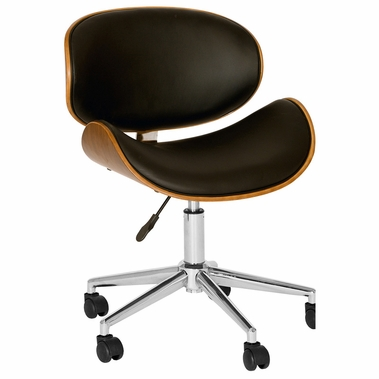chairs: (47, 8, 319, 372)
